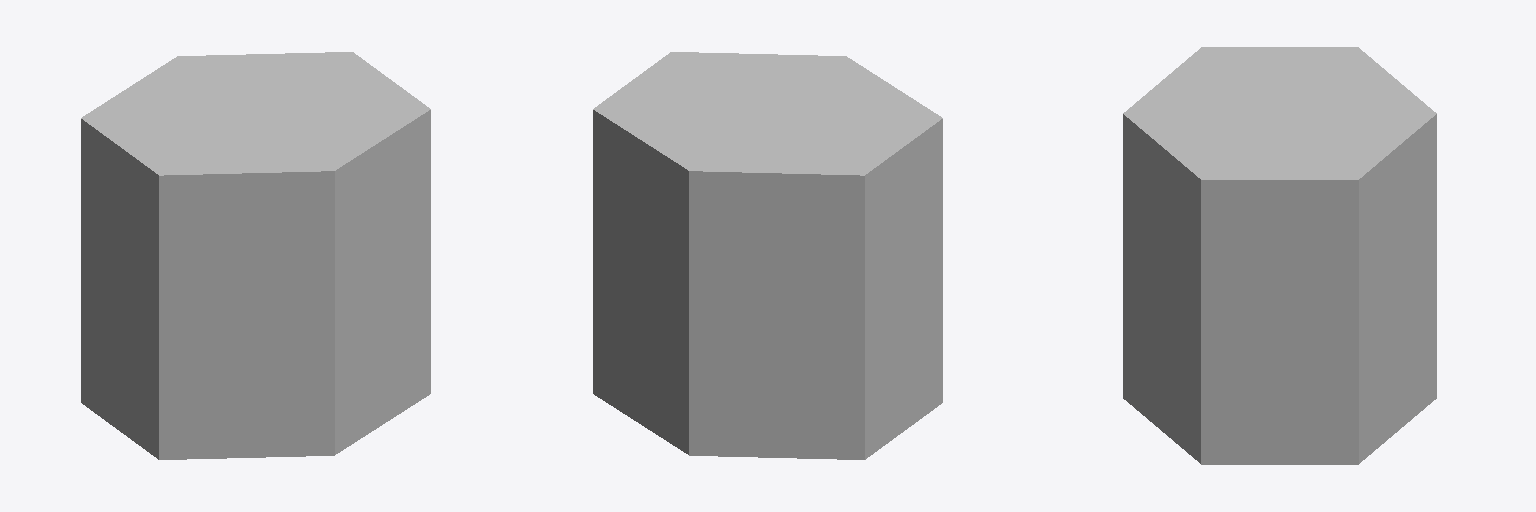
Rendered from hexes.obj.
3 views of the same model, side by side, from view 1: azimuth 30°, elevation 25°; view 2: azimuth 150°, elevation 25°; view 3: azimuth 270°, elevation 25° (orthographic).
Parts seen in each view (by area): view 1: Cylinder.5354_Cylinder.661; view 2: Cylinder.5354_Cylinder.661; view 3: Cylinder.5354_Cylinder.661.
Boxes of the visible parts, box(x1,y1,x2,y2) form: Cylinder.5354_Cylinder.661: box(81, 52, 430, 459); Cylinder.5354_Cylinder.661: box(593, 52, 942, 459); Cylinder.5354_Cylinder.661: box(1123, 47, 1436, 464).
Size of the model in its own units: 1 by 1 by 1.